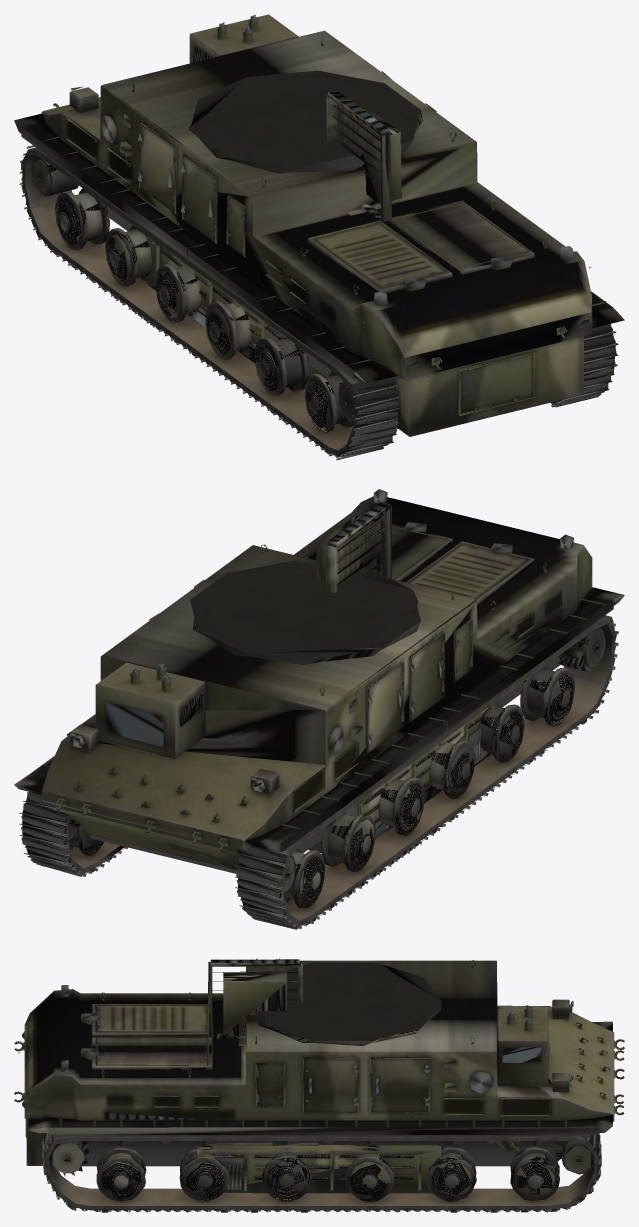
File: tor_lo.glb
The picture shows the model from 3 angles, top to bottom: view 1: azimuth 30°, elevation 25°; view 2: azimuth 150°, elevation 25°; view 3: azimuth 270°, elevation 25°; orthographic projection. The views are drawn at different scales.
Visible parts, largest first — view 1: body|TOR_body, body|TOR_dark, body|TOR_steel, body|TOR_darkF, radar|TOR_body, body|TOR_bodyF, body|TOR_steelF, turret|TOR_body, body|TOR_body2, radar|TOR_steel; view 2: body|TOR_body, body|TOR_dark, body|TOR_steel, body|TOR_darkF, body|TOR_steelF, radar|TOR_body, body|TOR_bodyF, body|TOR_glass, turret|TOR_body, body|TOR_body2, radar|TOR_steel; view 3: body|TOR_body, body|TOR_dark, body|TOR_steel, turret|TOR_body, body|TOR_darkF, radar|TOR_body, body|TOR_bodyF, body|TOR_steelF, body|TOR_body2, turret|TOR_dark, body|TOR_glass, turret|TOR_darkF (+1 smaller).
Part boxes in pixels (box(x1,y1,x2,y2)): body|TOR_body: box(14, 14, 624, 436); body|TOR_dark: box(22, 147, 615, 456); body|TOR_steel: box(37, 70, 422, 422); body|TOR_darkF: box(21, 150, 616, 457); radar|TOR_body: box(326, 90, 401, 221); body|TOR_bodyF: box(42, 19, 606, 416); body|TOR_steelF: box(19, 16, 618, 460); turret|TOR_body: box(146, 235, 326, 392); body|TOR_body2: box(68, 82, 495, 411); radar|TOR_steel: box(331, 104, 380, 185); body|TOR_body: box(14, 496, 624, 904); body|TOR_dark: box(22, 608, 615, 926); body|TOR_steel: box(68, 560, 600, 878); body|TOR_darkF: box(21, 615, 616, 929); body|TOR_steelF: box(19, 489, 618, 929); radar|TOR_body: box(316, 502, 391, 592); body|TOR_bodyF: box(42, 523, 606, 850); body|TOR_glass: box(76, 691, 261, 787); turret|TOR_body: box(308, 703, 494, 852); body|TOR_body2: box(141, 544, 522, 833); radar|TOR_steel: box(337, 515, 386, 585); body|TOR_body: box(24, 960, 614, 1198); body|TOR_dark: box(44, 1109, 598, 1210); body|TOR_steel: box(49, 962, 581, 1176); turret|TOR_body: box(197, 1141, 519, 1193); body|TOR_darkF: box(22, 1031, 601, 1212); radar|TOR_body: box(207, 959, 302, 1045); body|TOR_bodyF: box(14, 966, 624, 1189); body|TOR_steelF: box(42, 985, 601, 1212); body|TOR_body2: box(97, 960, 624, 1188); turret|TOR_dark: box(214, 1155, 414, 1179); body|TOR_glass: box(502, 1006, 572, 1081); turret|TOR_darkF: box(209, 1153, 420, 1189).
Bounding box in the file's own units: 3.8 × 3.32 × 9.18.
Materials: 23 (10 with a texture image).
